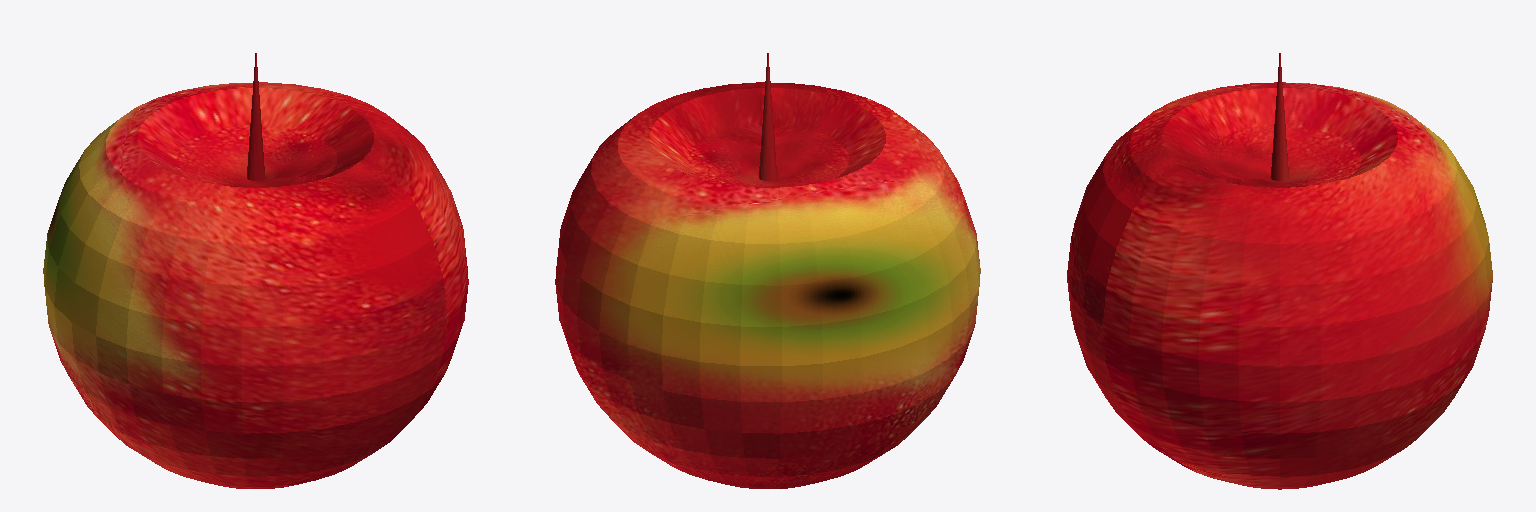
3 renders of one model, left to right at view 1: azimuth 30°, elevation 25°; view 2: azimuth 150°, elevation 25°; view 3: azimuth 270°, elevation 25°, orthographic.
Parts seen in each view (by area): view 1: Sphere_Sphere.001; view 2: Sphere_Sphere.001; view 3: Sphere_Sphere.001.
Part boxes in pixels (x1,y1,x2,y2): Sphere_Sphere.001: (43, 53, 468, 488); Sphere_Sphere.001: (555, 53, 980, 488); Sphere_Sphere.001: (1067, 53, 1492, 489).
Size of the model in its own units: 2 by 2.17 by 2.
1 materials, 1 textured.